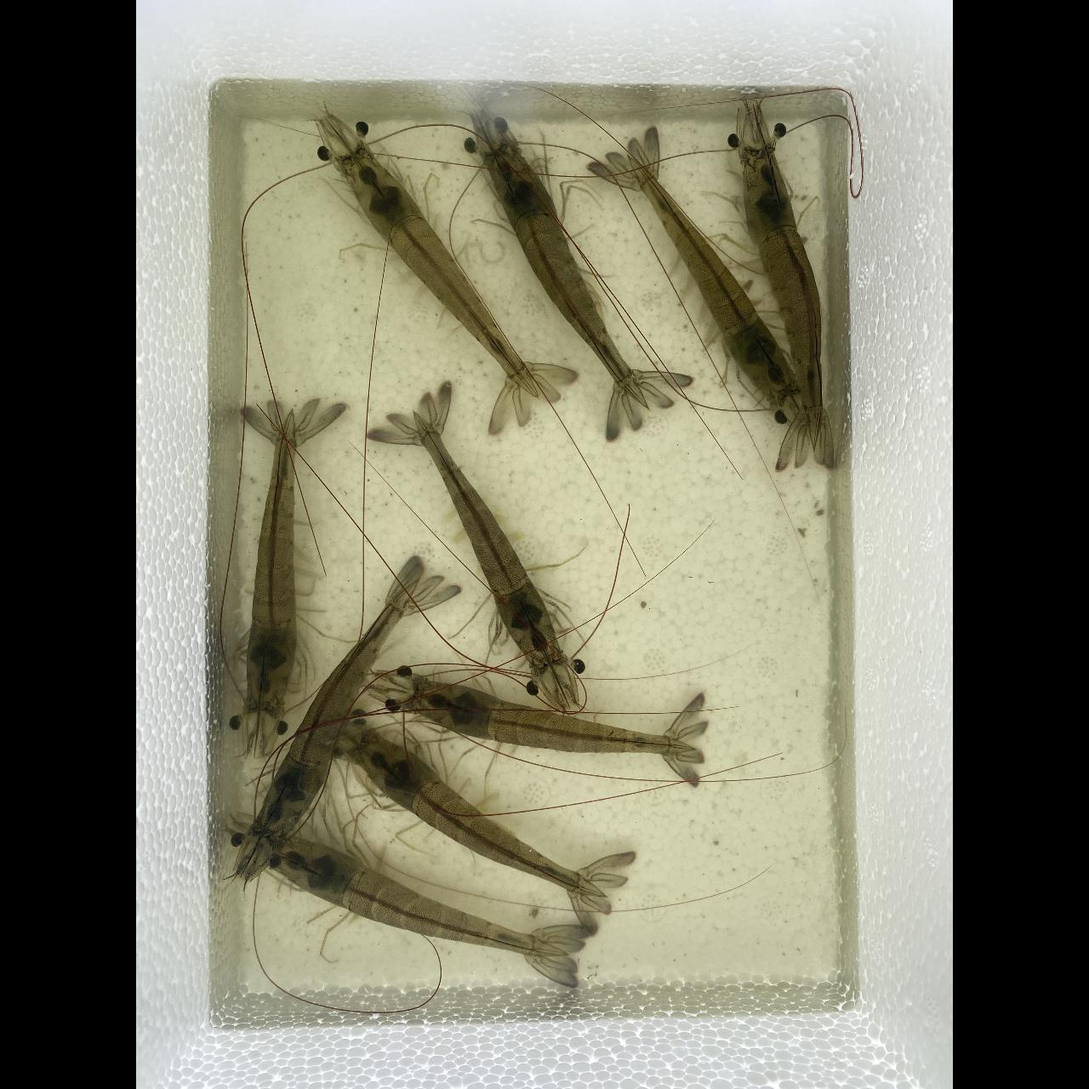top_shrimp: (343, 155, 540, 400), (256, 581, 417, 842), (486, 148, 647, 408), (629, 159, 798, 404), (356, 738, 605, 898), (273, 835, 574, 958), (415, 415, 559, 665), (742, 149, 822, 452), (414, 680, 696, 755), (247, 412, 297, 711)
